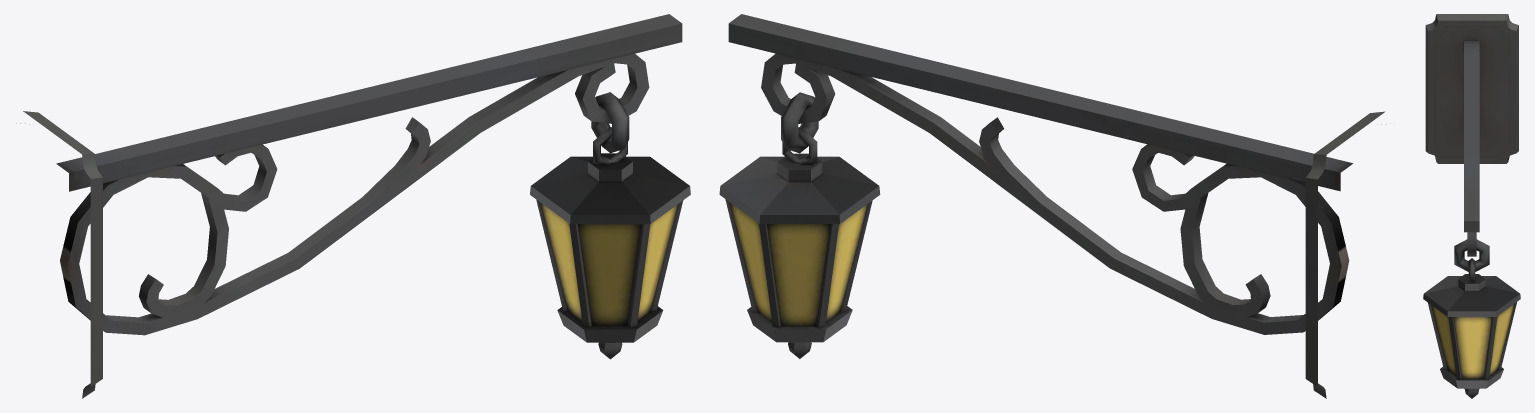
3 renders of one model, left to right at view 1: azimuth 30°, elevation 25°; view 2: azimuth 150°, elevation 25°; view 3: azimuth 270°, elevation 25°, orthographic. The views are drawn at different scales.
Parts seen in each view (by area): view 1: body0_model0_lod0_mesh0; view 2: body0_model0_lod0_mesh0; view 3: body0_model0_lod0_mesh0.
Part boxes in pixels (x1,y1,x2,y2): body0_model0_lod0_mesh0: [16, 14, 690, 398]; body0_model0_lod0_mesh0: [719, 14, 1390, 398]; body0_model0_lod0_mesh0: [1423, 14, 1520, 398].
Size of the model in its own units: 69.75 by 38.81 by 15.62.
1 material, 1 textured.
